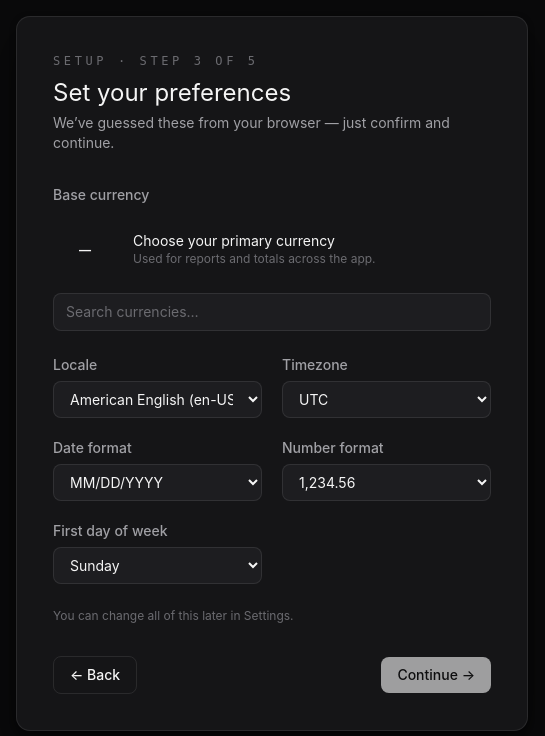
StepPreferences › the currency picker selects a code and renders the selection ring
Focus the dropdown with placeholder "Search currencies…": (272, 312) [53,293,491,331]
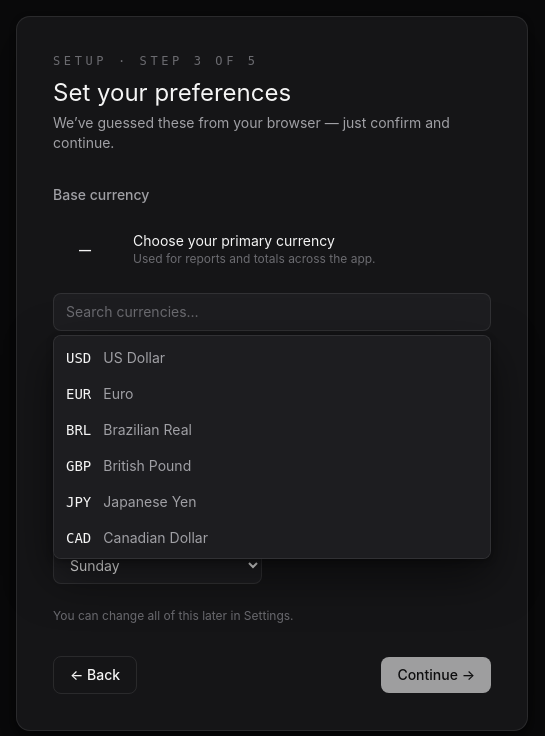
Click the option "EUR Euro": (118, 394) [54,376,490,412]
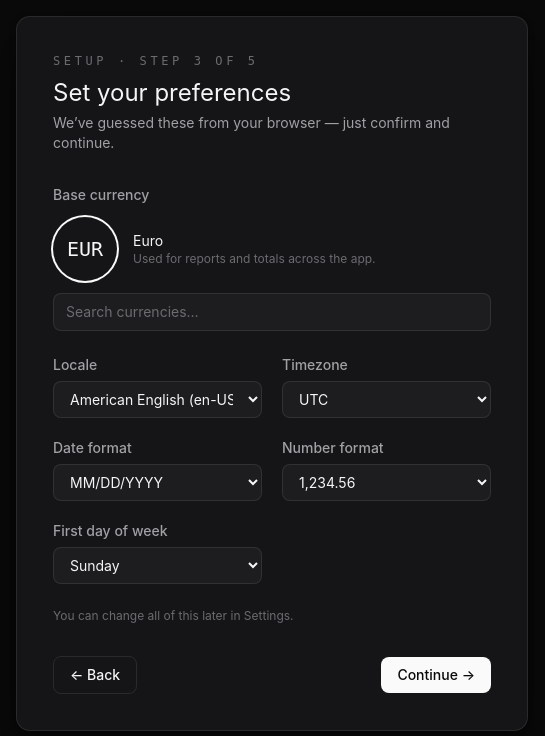
Result: the text "EUR" is shown at [67,235,103,263]
Result: the element with test id "currency-select-circle" is shown at [53,217,117,281]
